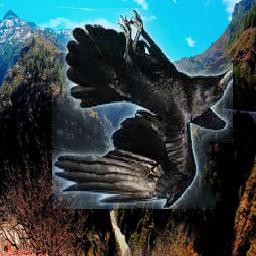Crow: (53, 9, 234, 210)
